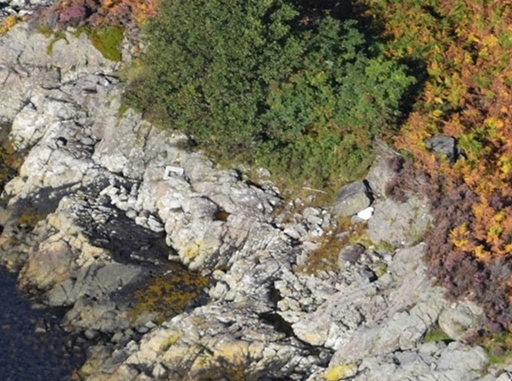white_in_green: (337, 186, 397, 243), (145, 144, 205, 201)
